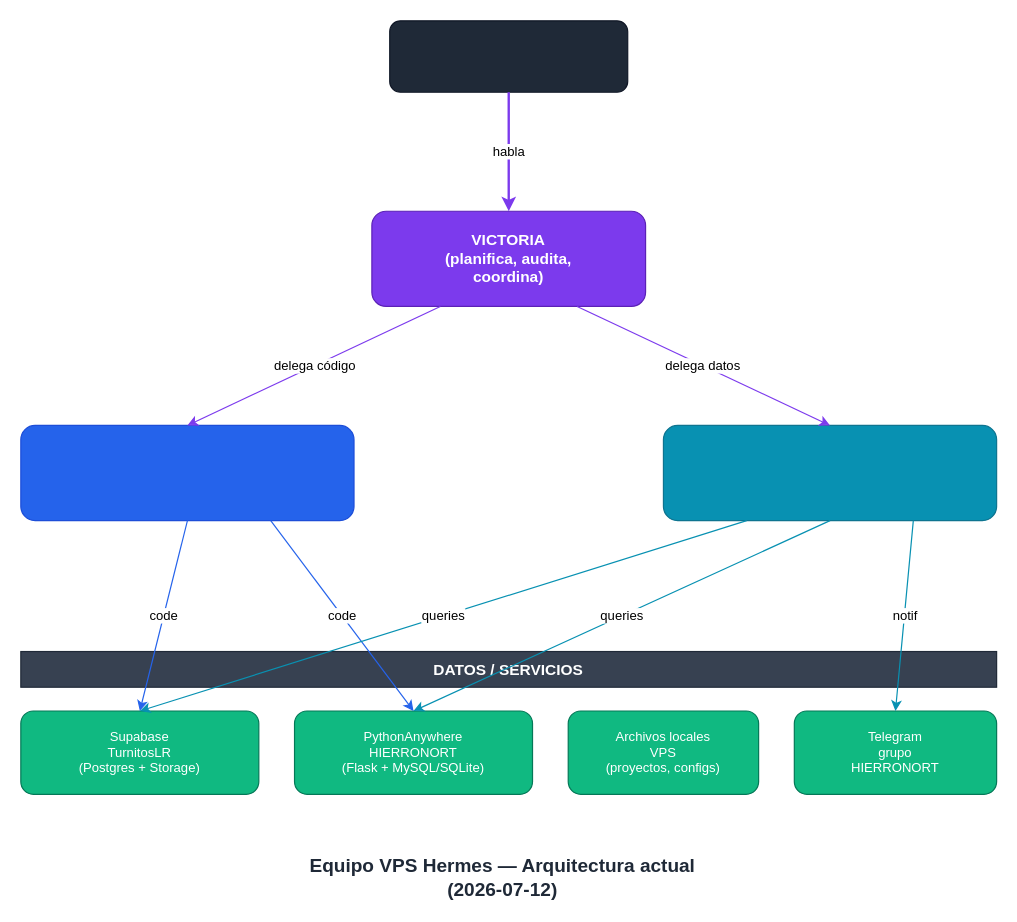
Some shapes in this 1017 by 922 pixel diagram are drawn without their labels. The shapes that lost their labels are listed below. From the top down, each one's box as (x1, y1, x2, y2) in pixels, then its label:
(389, 20, 628, 92): FERNANDO (decisiones / criterio)
(20, 424, 354, 521): CODER (OpenCode + MiniMax-M3) escribe código, refactors
(662, 424, 997, 521): BDD (n8n + workflows) sync, reportes, queries
